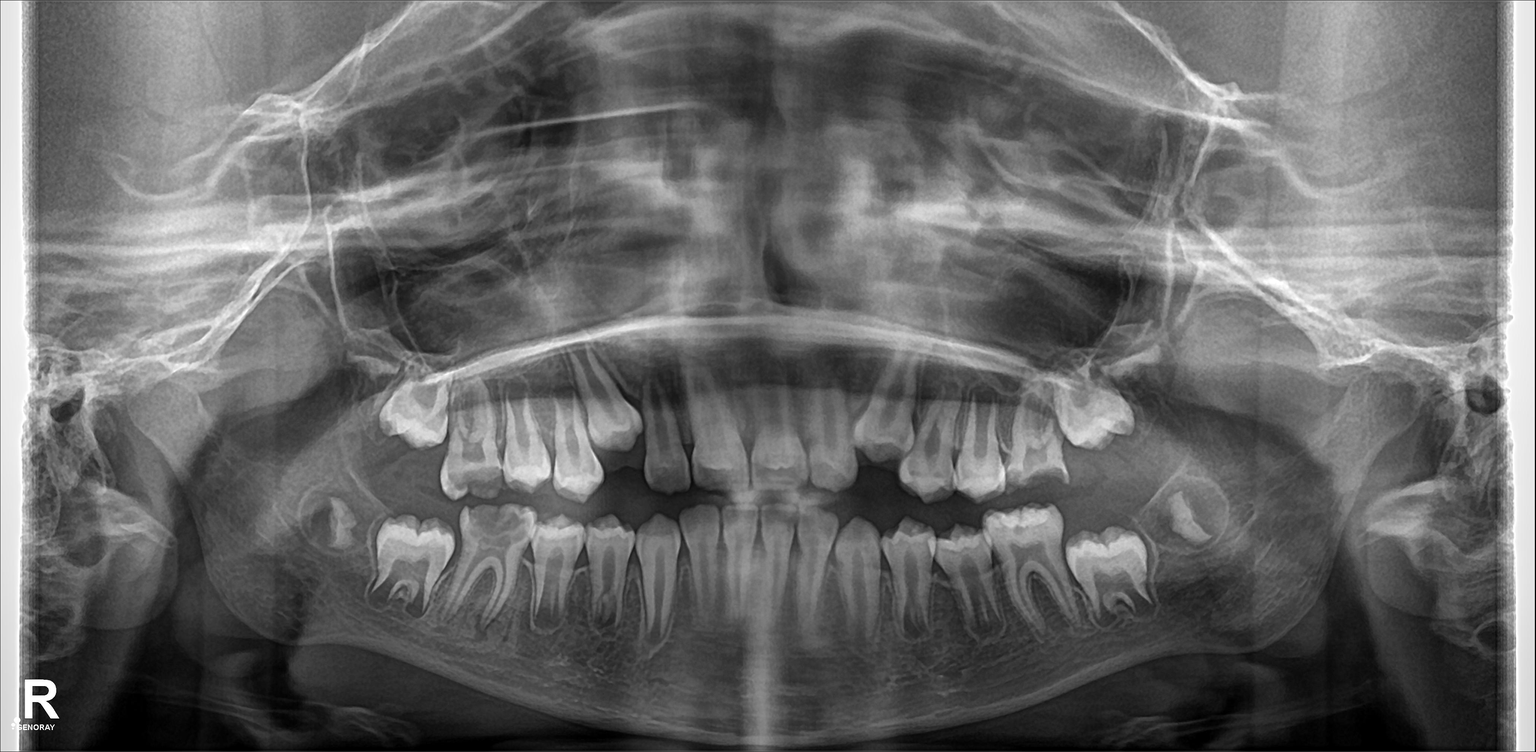Dental Caries: (460, 501, 530, 556), (1006, 452, 1070, 486)
